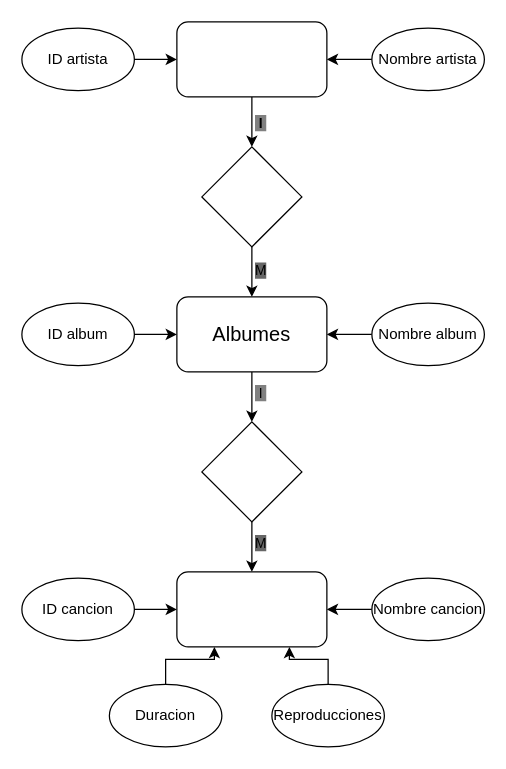
Some shapes in this 506 by 769 pixel diagram are drawn without their labels. Here are the shapes that lost their labels. From the top down, the centre of each, then its label:
At (251,59): "Artistas".
At (251,196): "Producen".
At (251,471): "Contienen".
At (251,609): "Canciones".
